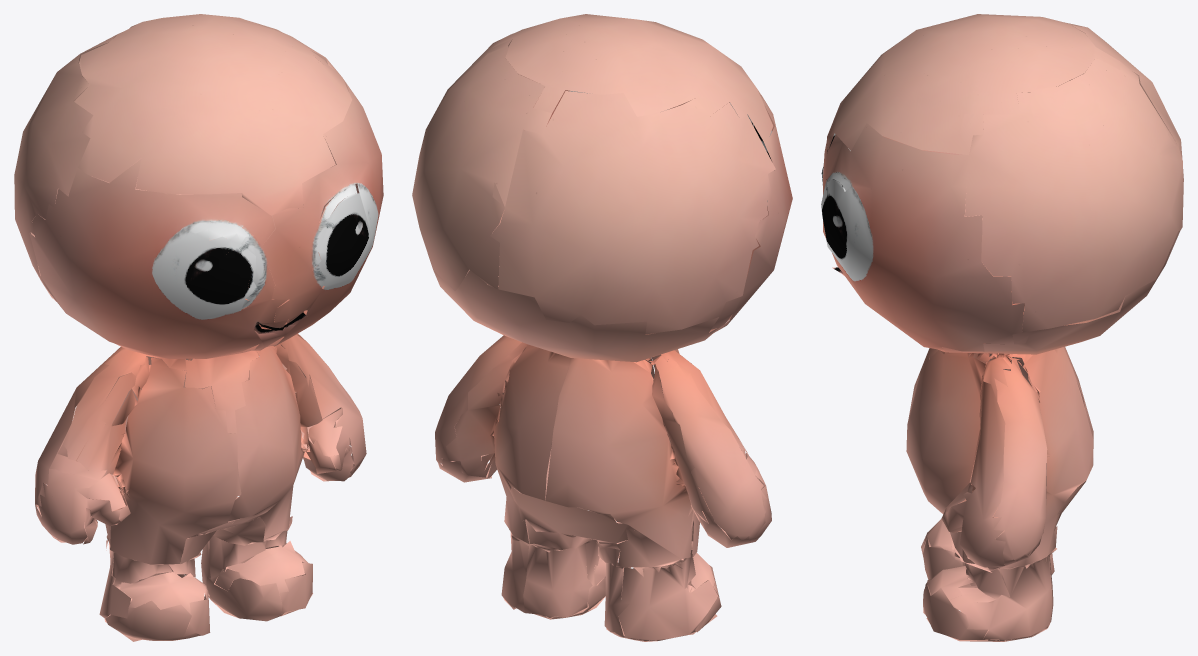
The model's file is person-low.glb.
3 views of the same model, side by side, from view 1: azimuth 30°, elevation 25°; view 2: azimuth 150°, elevation 25°; view 3: azimuth 270°, elevation 25° (orthographic). The views are drawn at different scales.
Visible parts, largest first — view 1: character_LOD1; view 2: character_LOD1; view 3: character_LOD1.
Part boxes in pixels (<box>): character_LOD1: <box>14,14,383,641</box>; character_LOD1: <box>412,14,792,641</box>; character_LOD1: <box>821,14,1183,641</box>.
Bounding box in the file's own units: 0.5802 × 0.9958 × 0.5668.
Materials: 1 (1 with a texture image).
